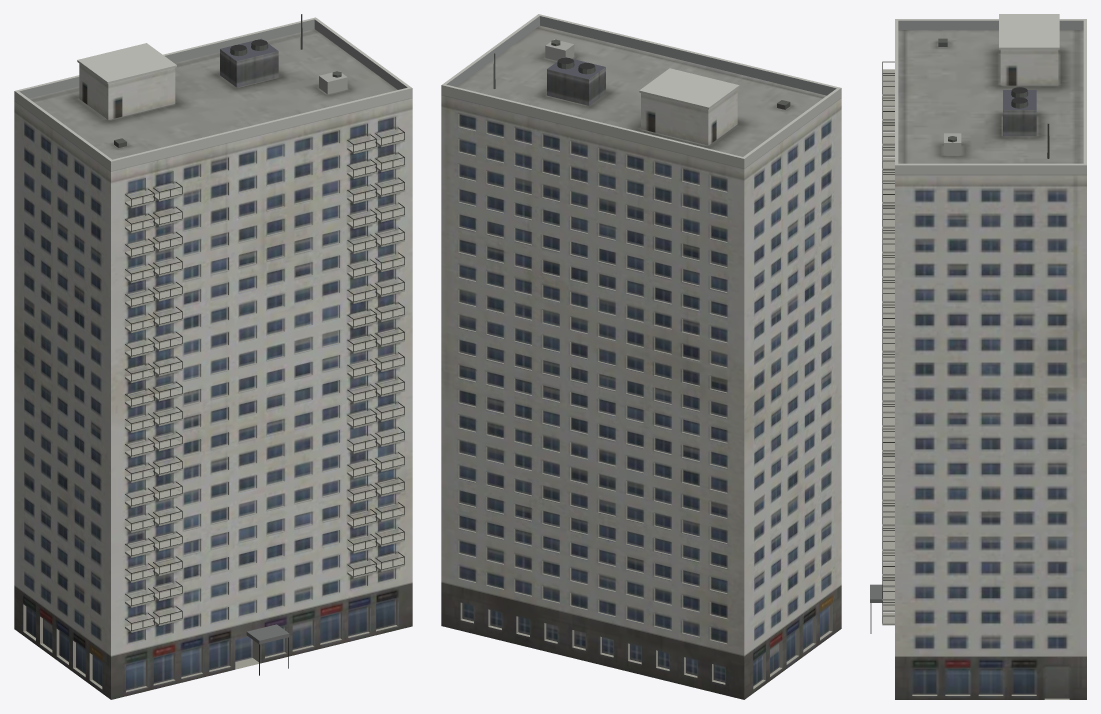
File: nyc_whitebrick_a.glb
3 views of the same model, side by side, from view 1: azimuth 30°, elevation 25°; view 2: azimuth 150°, elevation 25°; view 3: azimuth 270°, elevation 25° (orthographic).
Parts seen in each view (by area): view 1: nyc_whitebrick_a; view 2: nyc_whitebrick_a; view 3: nyc_whitebrick_a.
Part boxes in pixels (box(x1,y1,x2,y2)): nyc_whitebrick_a: box(14, 14, 412, 699); nyc_whitebrick_a: box(441, 14, 841, 699); nyc_whitebrick_a: box(870, 14, 1086, 699).
Bounding box in the file's own units: 36 × 64.77 × 22.6.
1 material, 1 textured.
